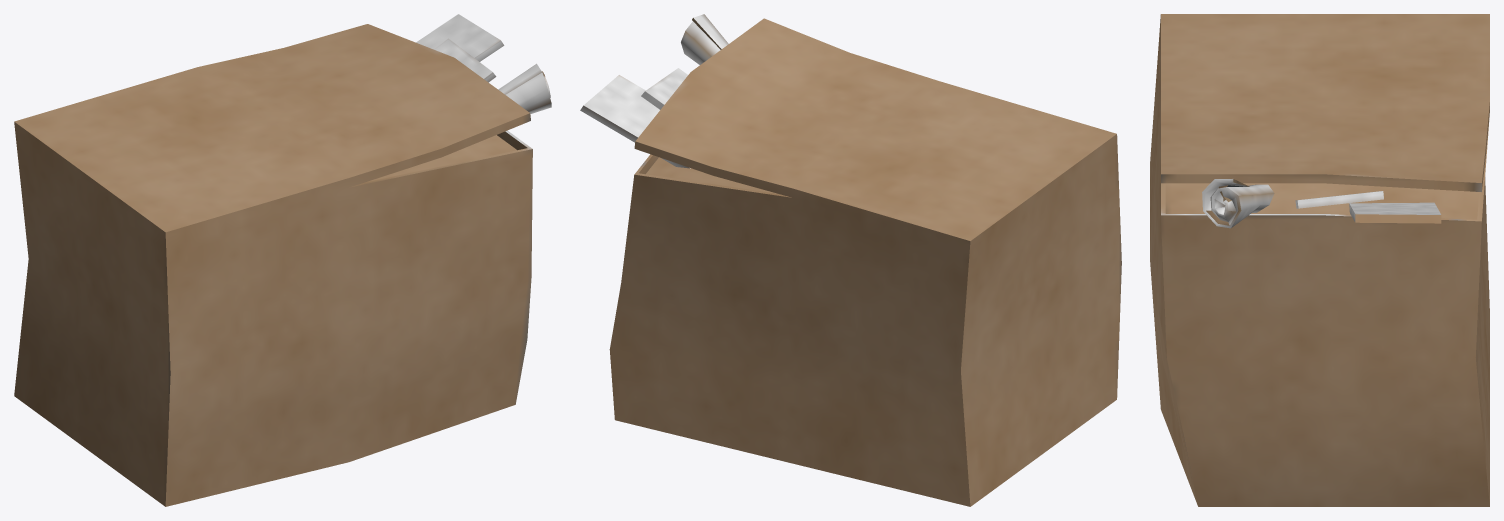
The picture shows the model from 3 angles, left to right: view 1: azimuth 30°, elevation 25°; view 2: azimuth 150°, elevation 25°; view 3: azimuth 270°, elevation 25°; orthographic projection. The views are drawn at different scales.
Visible parts, largest first — view 1: box; view 2: box; view 3: box.
Part boxes in pixels (box(x1,y1,x2,y2)): box: box(14, 14, 551, 506); box: box(580, 14, 1121, 506); box: box(1150, 14, 1489, 506).
Size of the model in its own units: 0.6531 by 0.4666 by 0.4132.
1 material, 1 textured.
